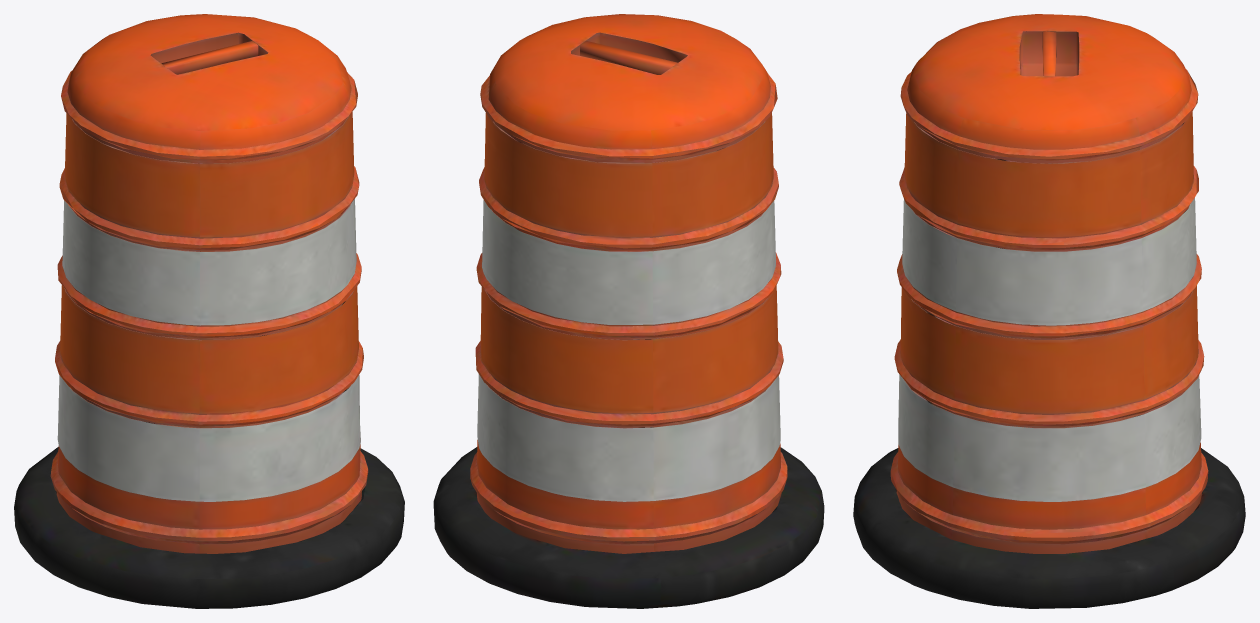
The model's file is traffic-barrel.glb.
3 renders of one model, left to right at view 1: azimuth 30°, elevation 25°; view 2: azimuth 150°, elevation 25°; view 3: azimuth 270°, elevation 25°, orthographic.
Visible parts, largest first — view 1: traffic-barrel_body; view 2: traffic-barrel_body; view 3: traffic-barrel_body.
Part boxes in pixels (left/top/right/bottom): traffic-barrel_body: left=14, top=14, right=404, bottom=608; traffic-barrel_body: left=433, top=14, right=824, bottom=608; traffic-barrel_body: left=853, top=14, right=1245, bottom=608.
Bounding box in the file's own units: 0.7295 × 0.985 × 0.734.
1 material, 1 textured.
